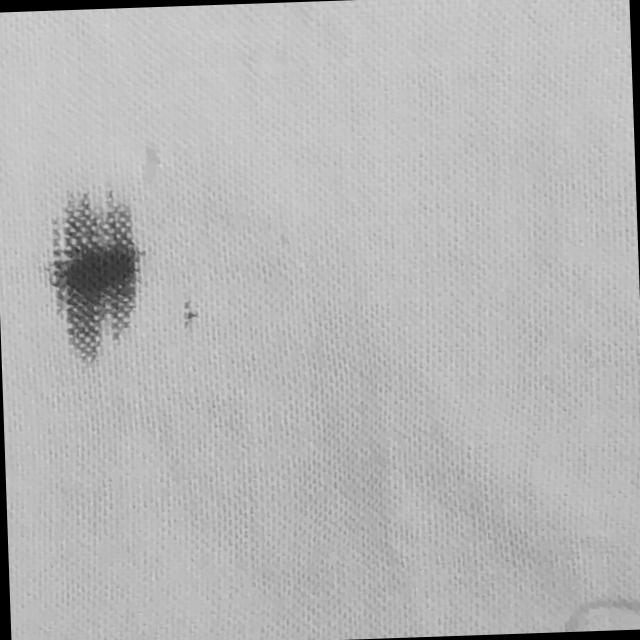Stain: (45, 188, 143, 363), (177, 296, 202, 329)
